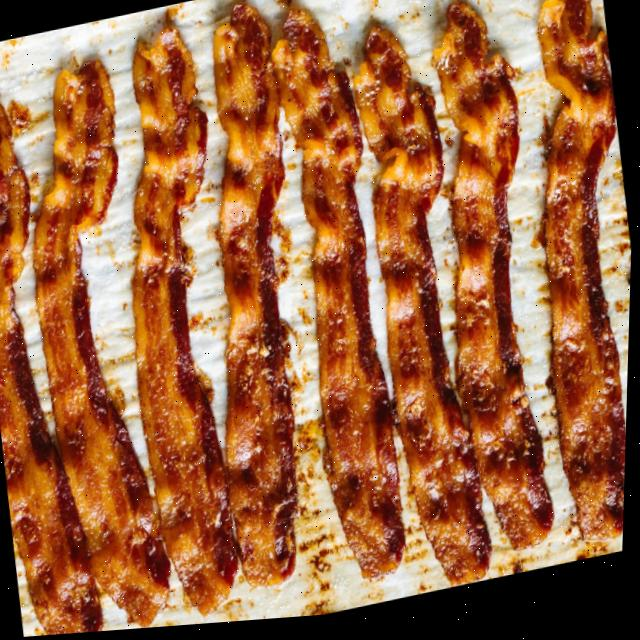Bacon: (34, 62, 173, 630), (354, 33, 494, 594), (271, 14, 408, 586), (433, 7, 556, 558), (132, 32, 241, 619), (0, 105, 106, 636), (212, 8, 300, 592), (537, 0, 629, 552), (163, 249, 165, 250)
